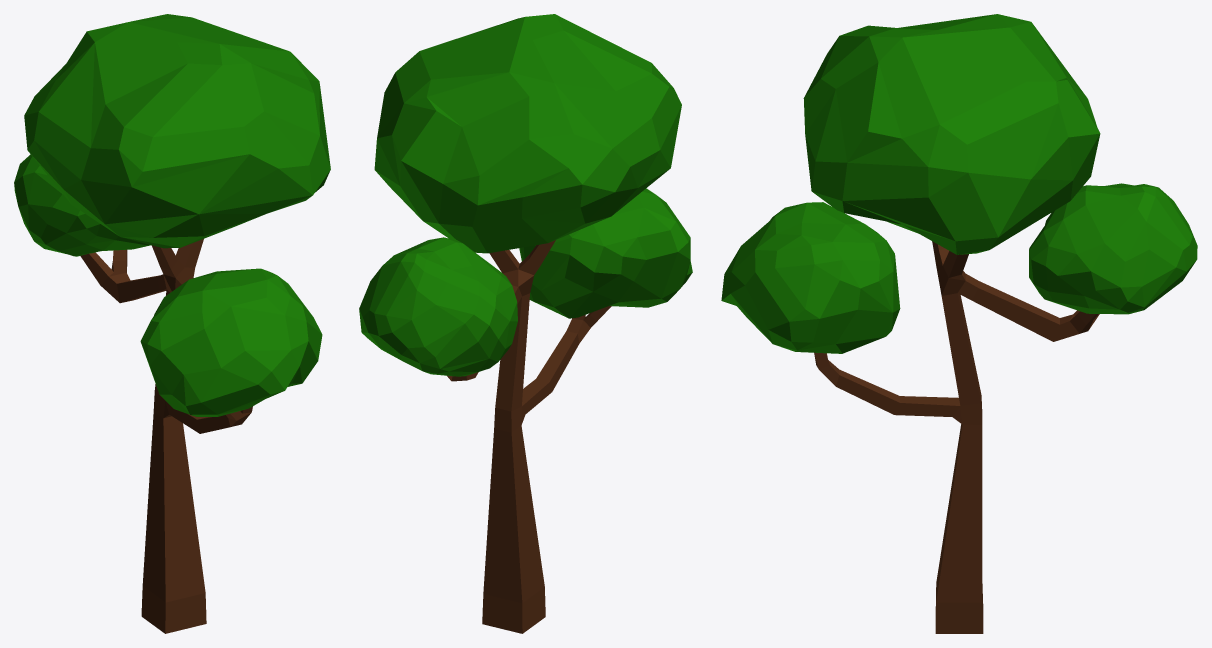
File: arvore2.fbx
3 renders of one model, left to right at view 1: azimuth 30°, elevation 25°; view 2: azimuth 150°, elevation 25°; view 3: azimuth 270°, elevation 25°, orthographic. The views are drawn at different scales.
Parts seen in each view (by area): view 1: Plane; view 2: Plane; view 3: Plane.
Part boxes in pixels (bbox=[...]): Plane: bbox=[14, 14, 330, 633]; Plane: bbox=[359, 14, 692, 633]; Plane: bbox=[721, 14, 1197, 633].
Size of the model in its own units: 373 by 811 by 589.
